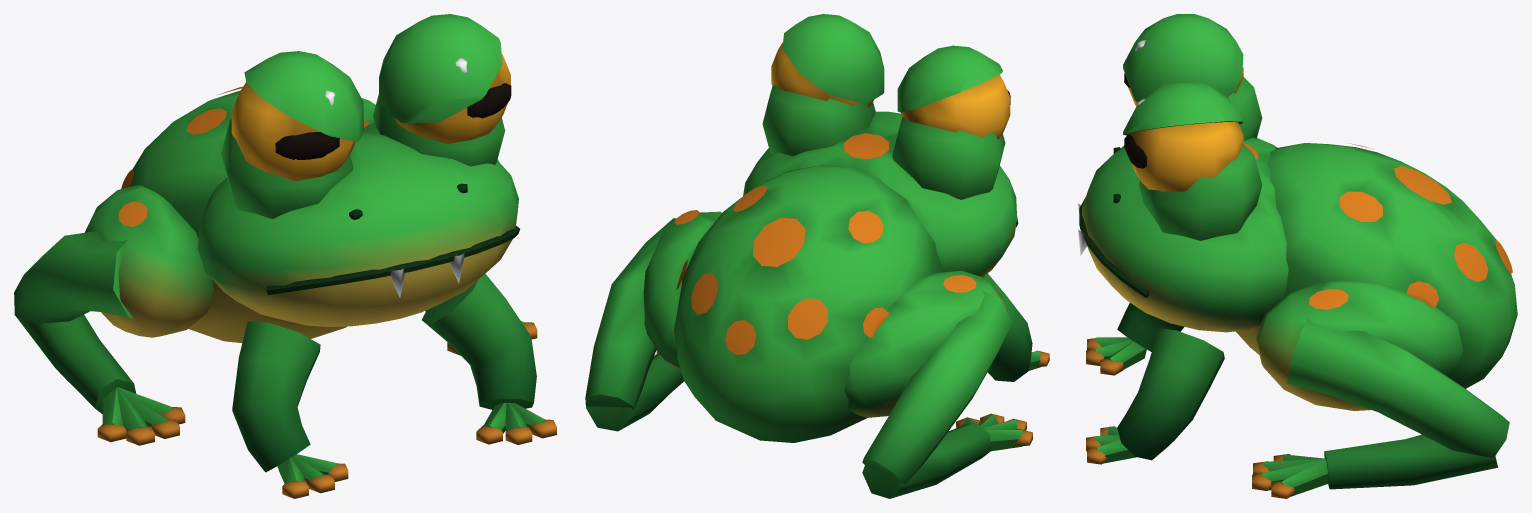
The model's file is hopper.glb.
The picture shows the model from 3 angles, left to right: view 1: azimuth 30°, elevation 25°; view 2: azimuth 150°, elevation 25°; view 3: azimuth 270°, elevation 25°; orthographic projection. The views are drawn at different scales.
Visible parts, largest first — view 1: body, leg_R; view 2: body, leg_R, leg_L; view 3: body, leg_L.
Part boxes in pixels (x1,y1,x2,y2): body: (121,14,556,498); leg_R: (14,185,213,445); body: (673,14,1049,442); leg_R: (844,270,1032,498); leg_L: (585,210,721,431); body: (1078,14,1517,464); leg_L: (1252,281,1509,498).
Size of the model in its own units: 0.9341 by 0.8 by 0.8994.
